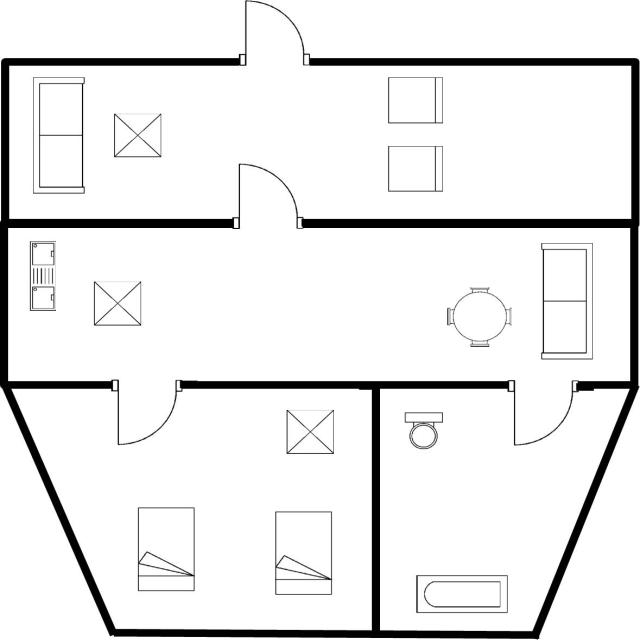bed: (269, 507, 337, 599), (133, 504, 200, 596)
coffee_table: (280, 404, 338, 460), (105, 109, 167, 160), (89, 276, 146, 331)
large_sink: (400, 407, 446, 453)
large_sofa: (535, 237, 598, 363), (27, 71, 88, 201)
round_table: (442, 281, 518, 352)
small_sofa: (382, 141, 447, 196), (382, 73, 446, 128)
tub: (411, 572, 511, 616)
twin_sink: (24, 237, 60, 314)
